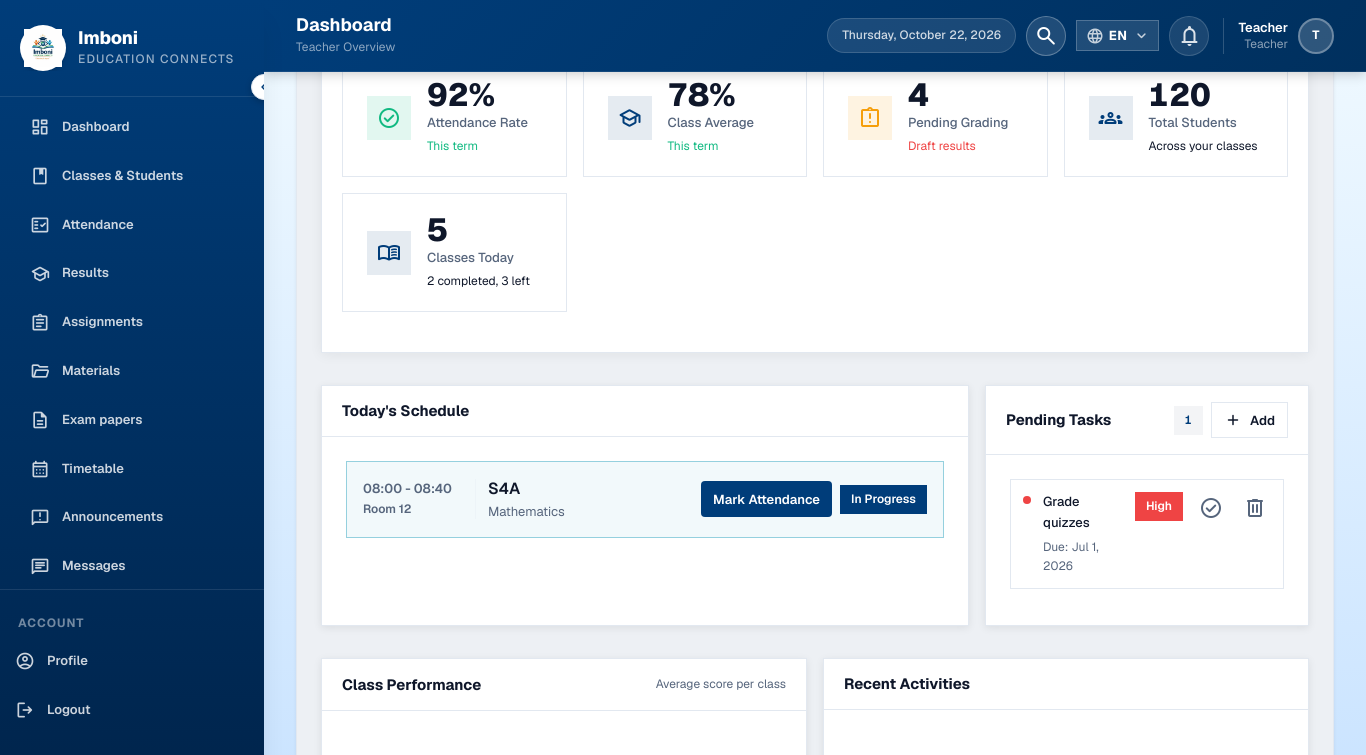
Test: TeacherDashboard › requires a title before saving a new task
The image size is (1366, 755).
(page scrolled)
expect the text "Grade quizzes" is shown: met, box left=1043, top=493, right=1090, bottom=531
Click the button titled "Add task" at (1250, 420), box left=1211, top=402, right=1288, bottom=438
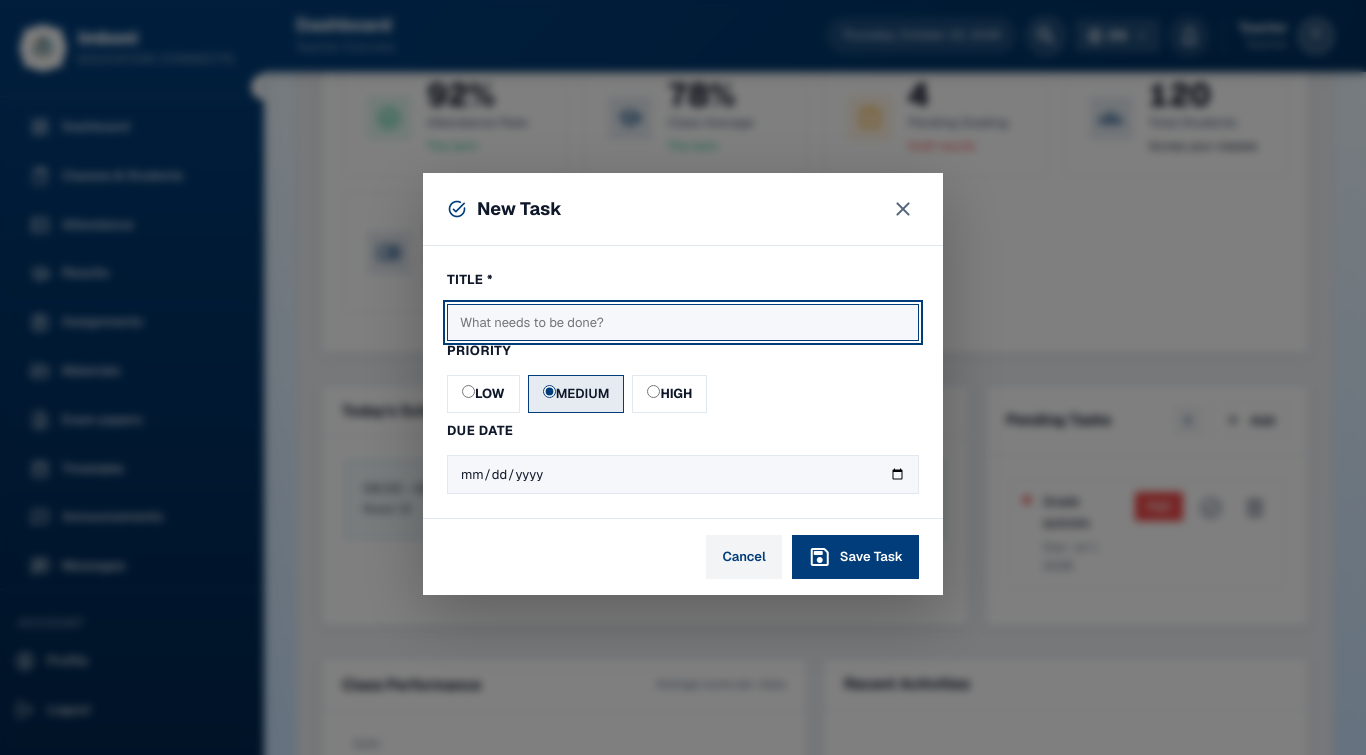
expect the button "Save Task" is disabled: met, box left=792, top=535, right=919, bottom=579
